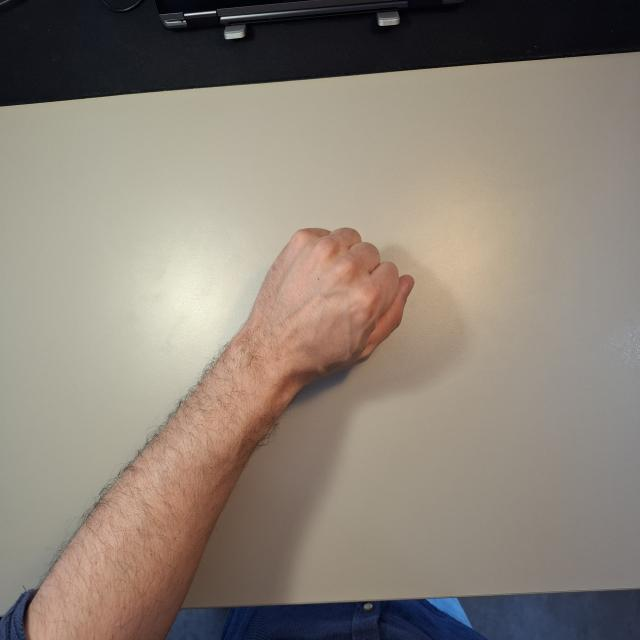glove_off: (238, 224, 417, 414)
